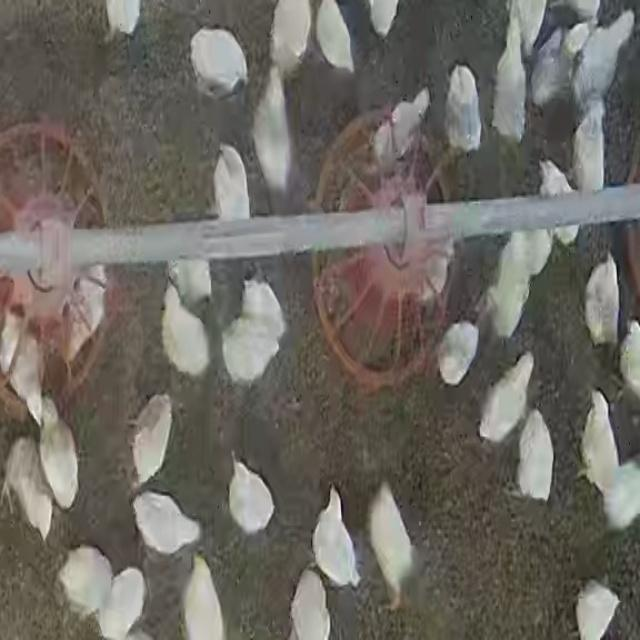chicken: (220, 274, 287, 388), (366, 481, 416, 611), (571, 11, 635, 104), (251, 70, 293, 200), (477, 353, 535, 445), (160, 279, 212, 378), (130, 489, 203, 558), (311, 485, 360, 587), (372, 90, 431, 174), (38, 400, 80, 515), (580, 391, 621, 507), (224, 452, 278, 540), (492, 13, 528, 144), (188, 27, 250, 103), (130, 394, 175, 491), (58, 545, 114, 620), (516, 406, 557, 503), (182, 558, 230, 638), (96, 565, 146, 639), (443, 64, 482, 153), (584, 257, 622, 348), (212, 145, 253, 221), (571, 108, 605, 194), (436, 320, 479, 386), (573, 580, 621, 638), (289, 569, 328, 640), (602, 461, 640, 532)
